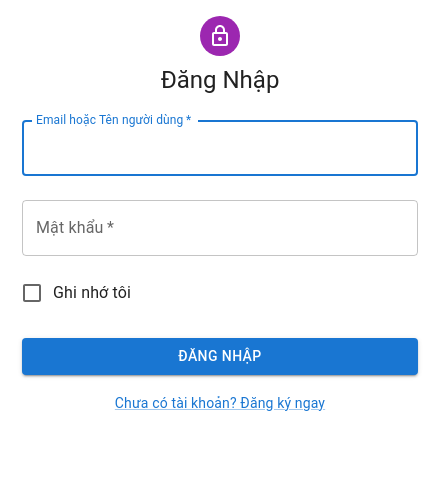
it: LoginPage Component › shows error Alert if fields are empty on submit
The image size is (441, 492).
Click the button "Đăng Nhập". click: point(220, 356)
box: left=22, top=338, right=418, bottom=374
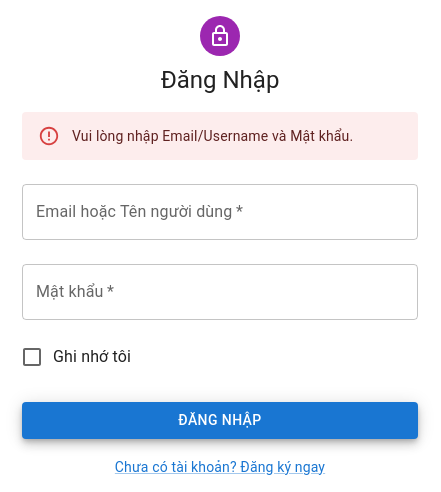
Now the message reads "Vui lòng nhập Email/Username và Mật khẩu.", box left=72, top=128, right=353, bottom=144
